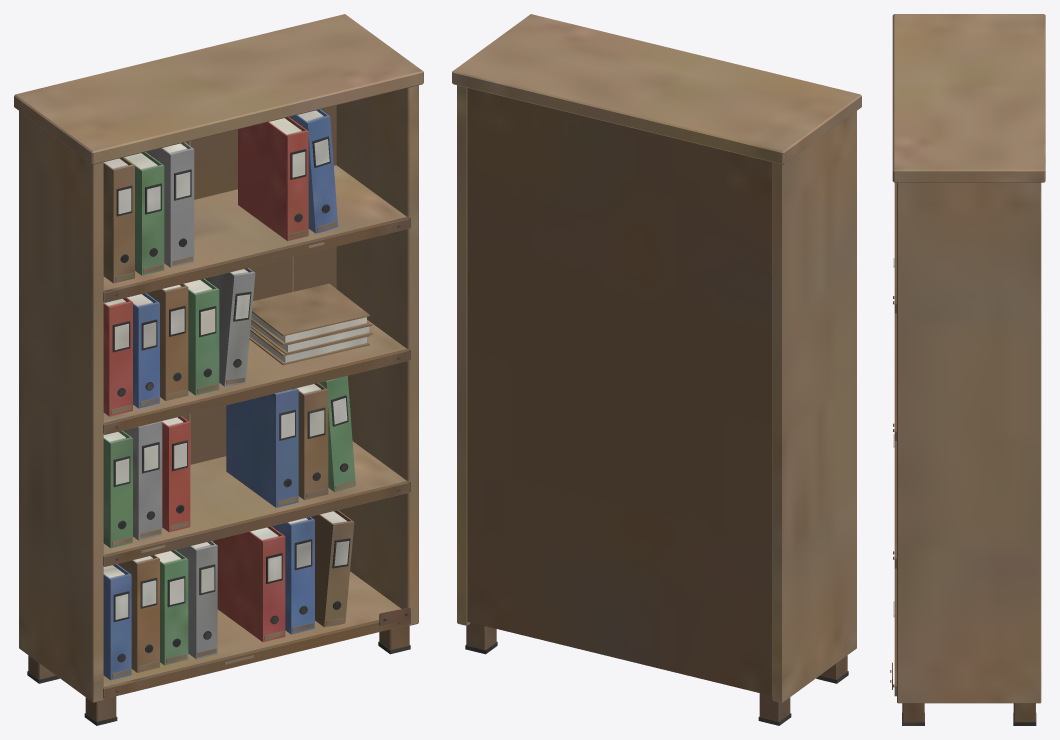
File: O12_office_shelf_with_binders.glb
3 views of the same model, side by side, from view 1: azimuth 30°, elevation 25°; view 2: azimuth 150°, elevation 25°; view 3: azimuth 270°, elevation 25° (orthographic). The views are drawn at different scales.
Visible parts, largest first — view 1: Short wooden foot; view 2: Short wooden foot; view 3: Short wooden foot.
Part boxes in pixels (x1,y1,x2,y2): Short wooden foot: (14, 14, 423, 725); Short wooden foot: (452, 14, 861, 725); Short wooden foot: (890, 14, 1045, 725).
Size of the model in its own units: 1.08 by 1.8 by 0.452.
11 materials, 11 textured.
